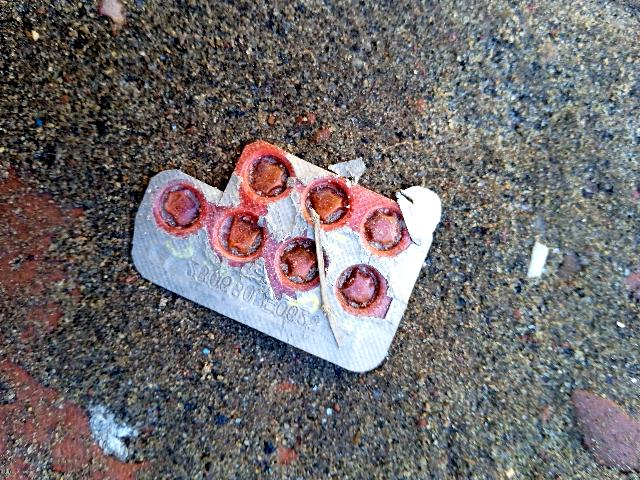medicine: (119, 125, 443, 377)
